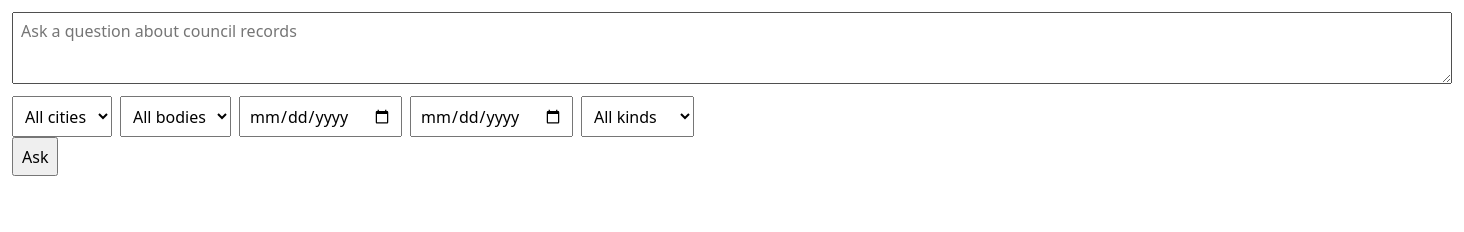
Test: shows the error code on failure
The image size is (1464, 232).
Type "How did they vote?" into the text box with test id "ask-input". click: x=732, y=48
box: x1=12 y1=12 x2=1452 y2=84
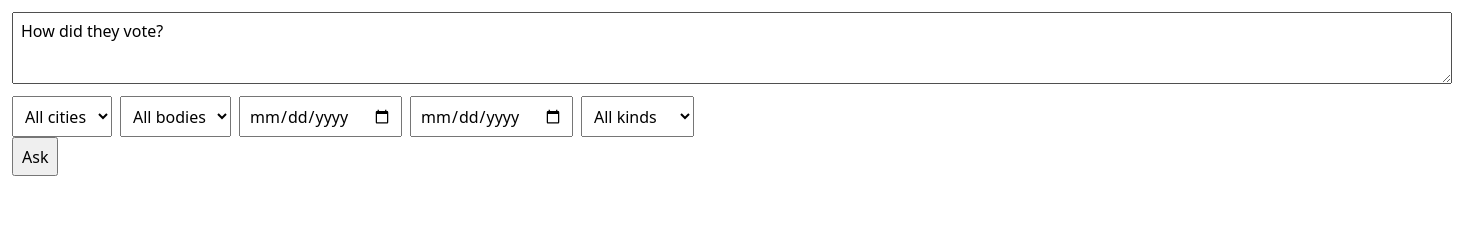
Click the button with test id "ask-submit". click: x=35, y=157
box: x1=12 y1=137 x2=58 y2=176
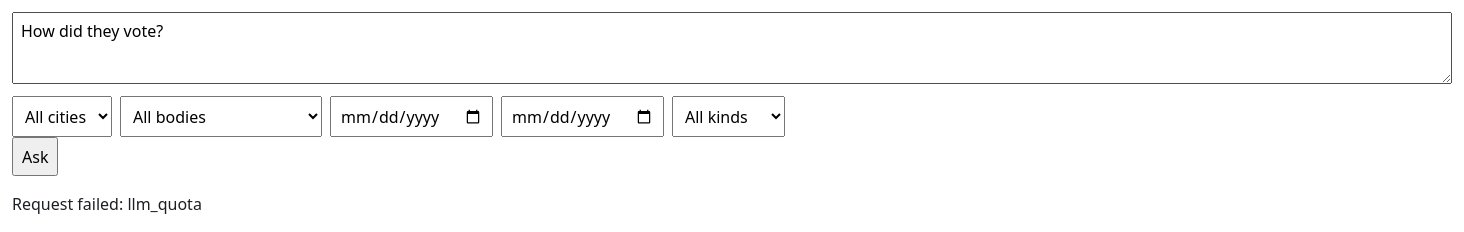
expect the text with test id "error" reads "Request failed: llm_quota": met, box x1=12 y1=193 x2=202 y2=215
